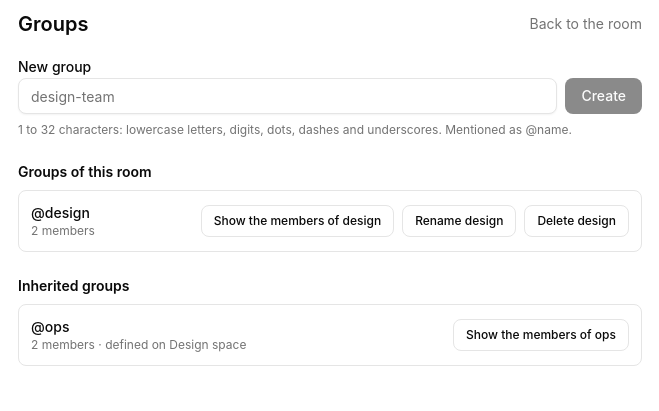
it: RoomGroups › maps the server error group.name_taken on create
Expected: the text "@design" is shown, [31,204,90,221]
Type "taken" into the field labelled "New group". click: [288, 96]
box: [18,78,557,114]
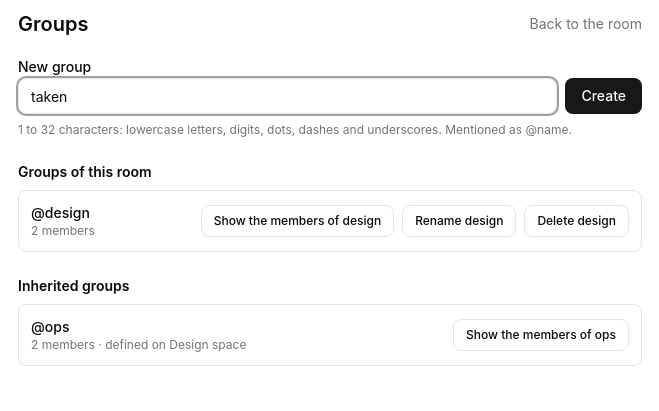
Click the button "Create". click: [604, 96]
box: [565,78,642,114]
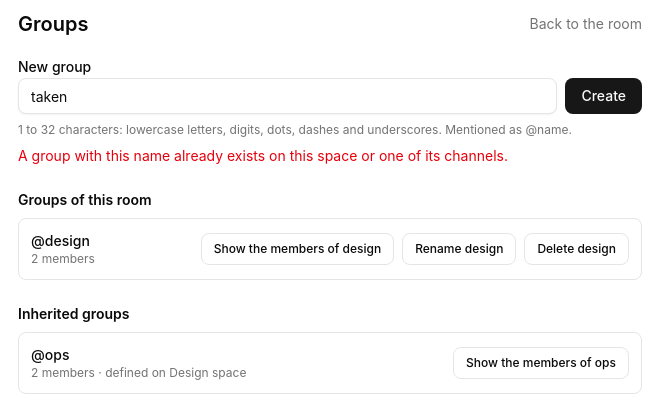
Expected: the message shows "A group with this name already exists", [18,147,508,164]
